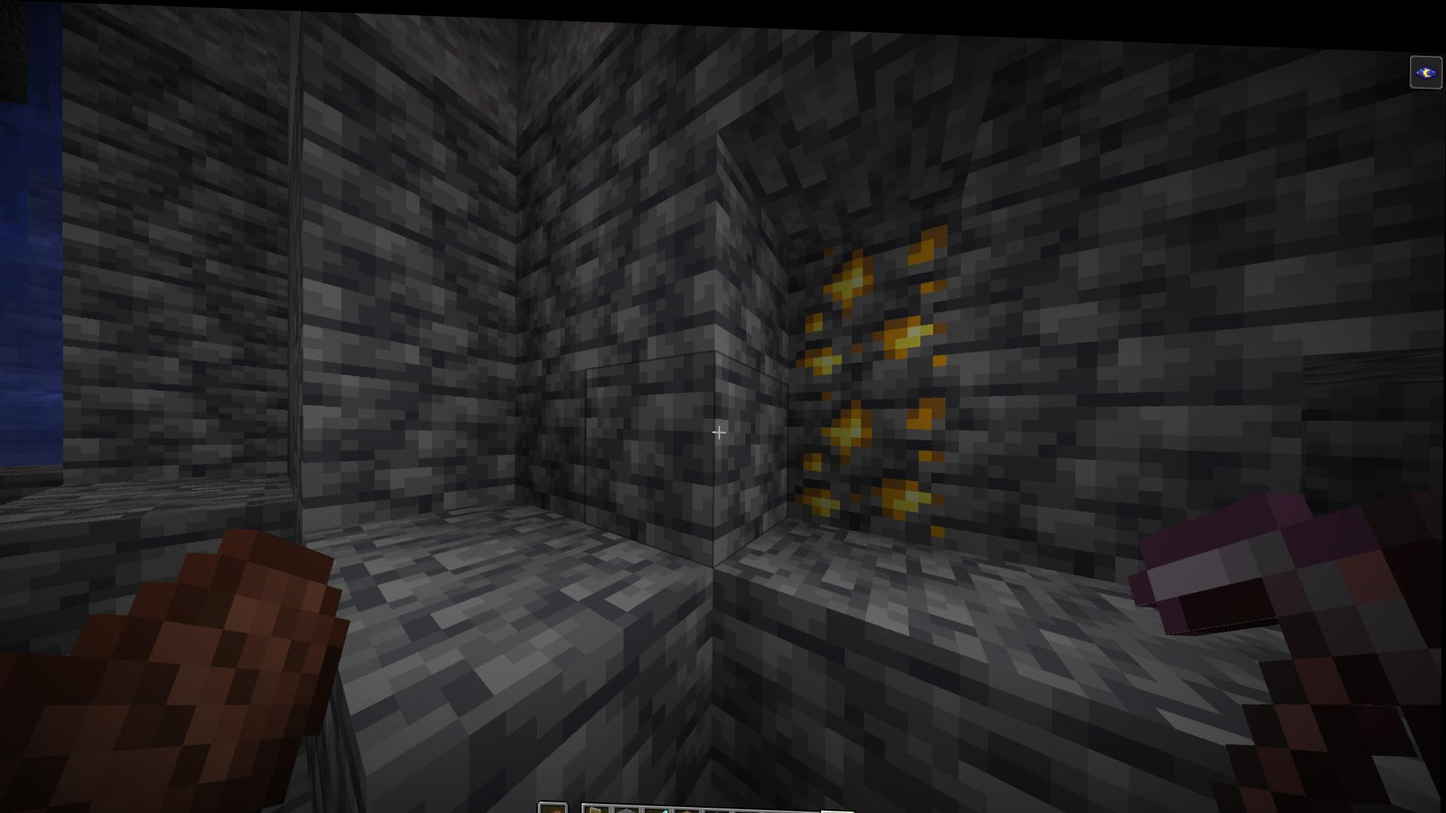gold ore: (785, 354, 951, 541), (783, 205, 958, 371)
